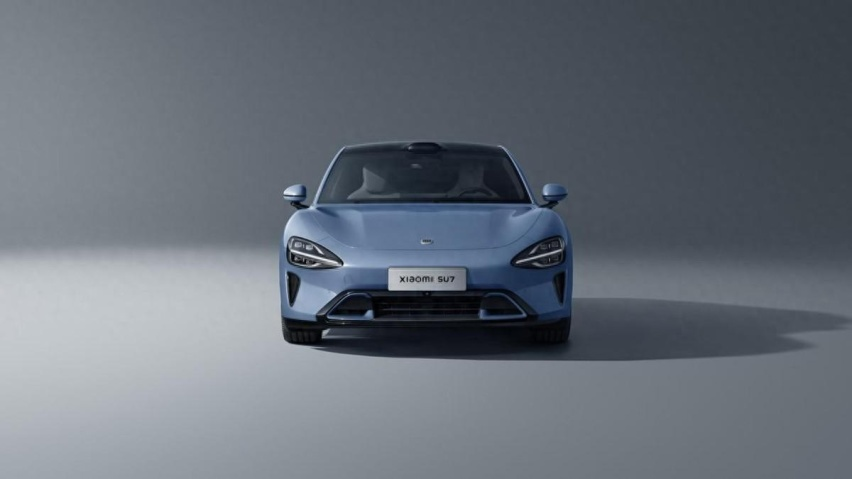su7: (278, 138, 573, 355)
